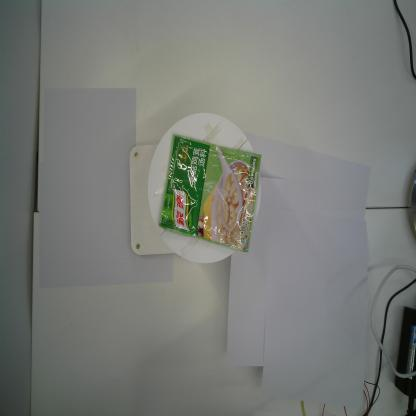Seasoner: (157, 132, 262, 252)
